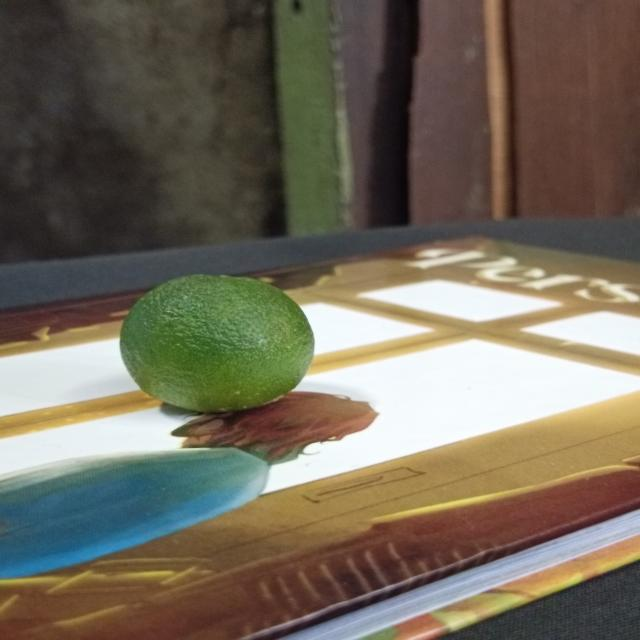heathy: (110, 270, 320, 415)
